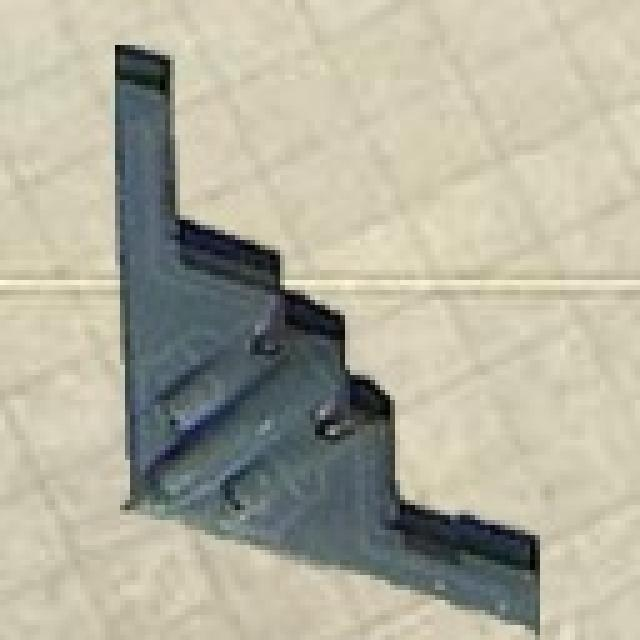B-2_TopDown: (100, 35, 545, 635)
